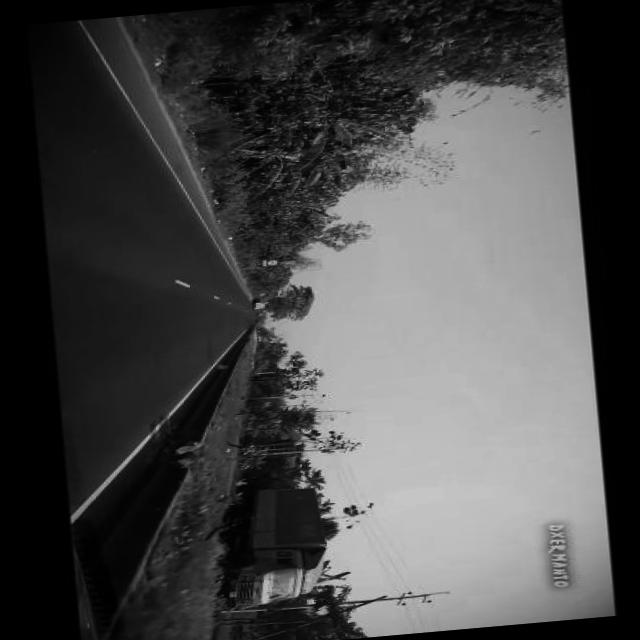truck: (212, 482, 334, 610)
